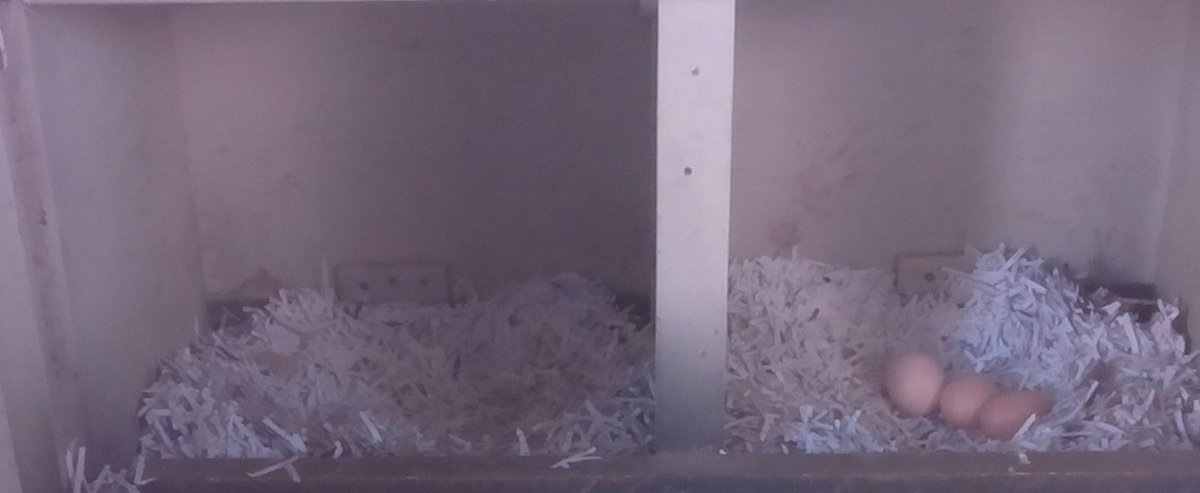egg: (881, 345, 950, 421), (977, 387, 1054, 438), (937, 369, 1001, 430)
